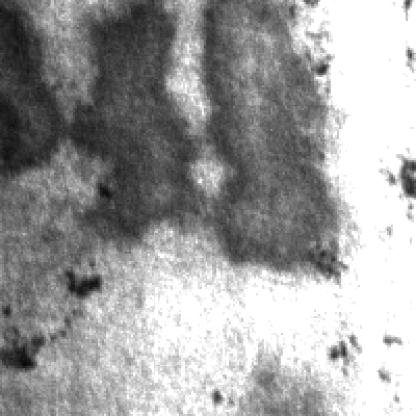inclusion: (2, 318, 52, 372), (64, 260, 108, 300)
patches: (206, 0, 337, 272), (75, 0, 193, 237), (3, 0, 68, 174)
